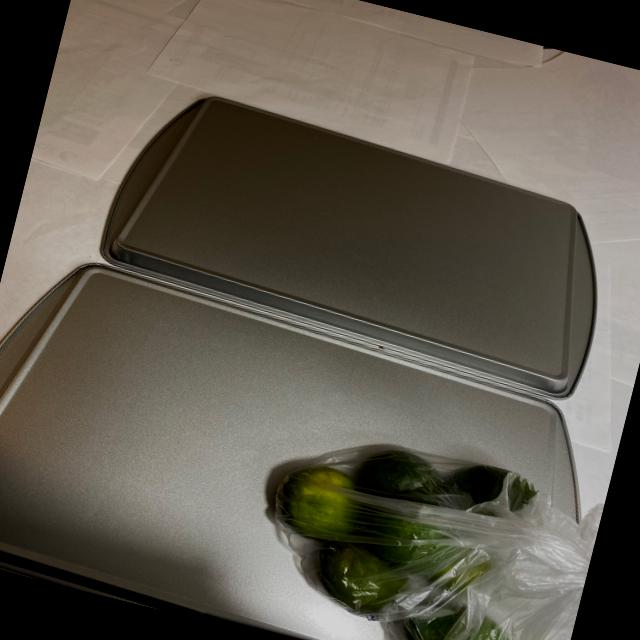lemon: (245, 421, 585, 640)
